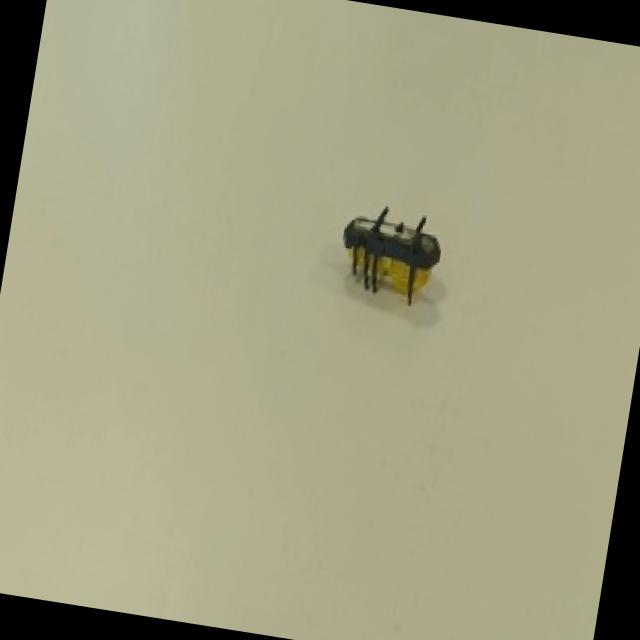6_NanoBug_GrisOscuro: (328, 188, 471, 344)
